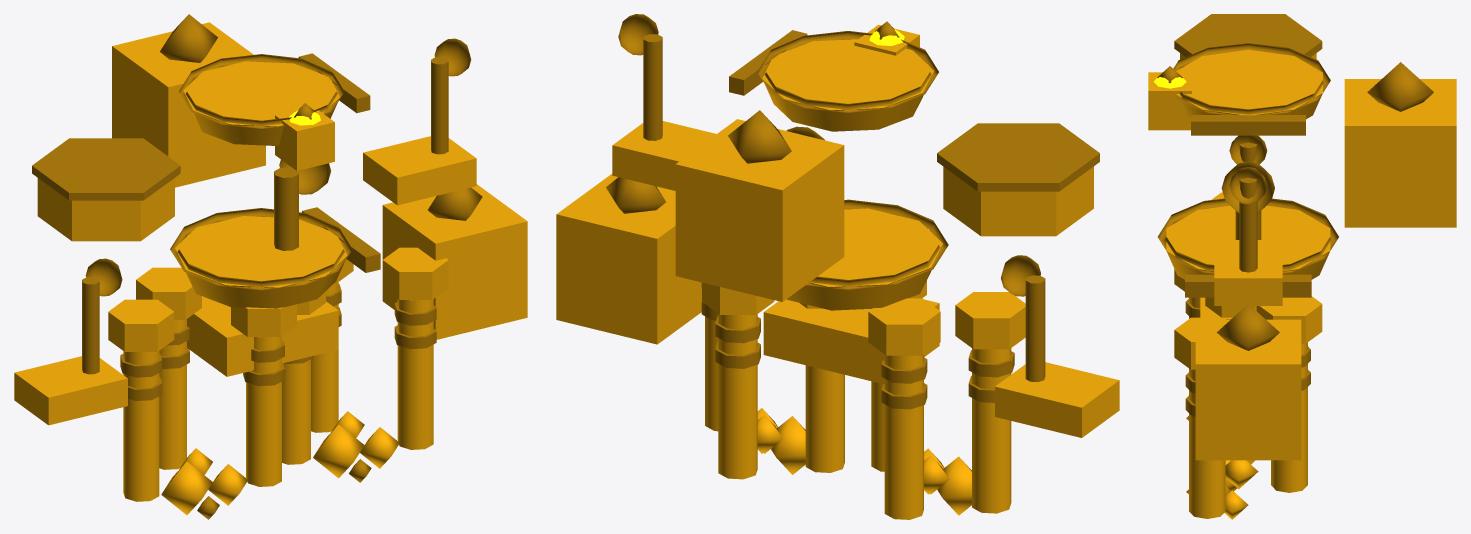
Rendered from golem_021.glb.
The picture shows the model from 3 angles, left to right: view 1: azimuth 30°, elevation 25°; view 2: azimuth 150°, elevation 25°; view 3: azimuth 270°, elevation 25°; orthographic projection. The views are drawn at different scales.
Parts seen in each view (by area): view 1: Body, Detail; view 2: Body, Detail; view 3: Body, Detail.
Boxes of the visible parts, x1,y1,x2,y2 form: Body: (14, 22, 527, 514); Detail: (32, 14, 482, 519); Body: (556, 25, 1119, 519); Detail: (606, 14, 1099, 409); Body: (1148, 49, 1456, 519); Detail: (1157, 14, 1433, 416).
Size of the model in its own units: 1.34 by 1.13 by 0.7653.
